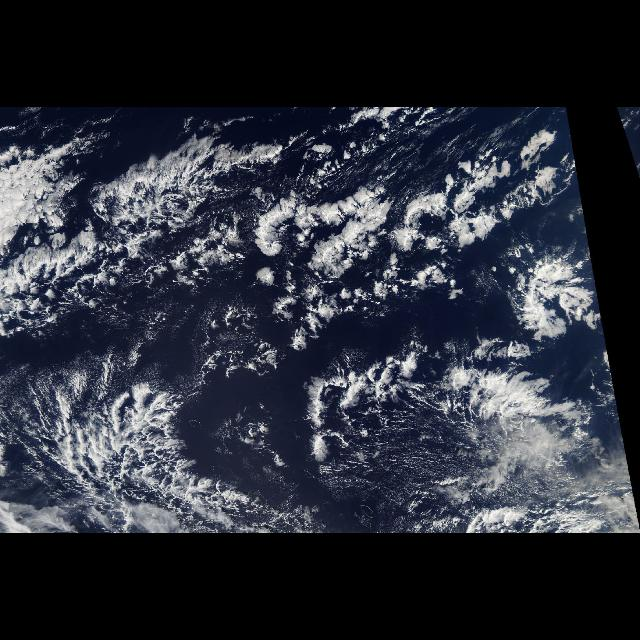Fish: (4, 132, 564, 532)
Gravel: (114, 266, 294, 398)
Sugar: (233, 132, 607, 340), (330, 355, 632, 533)
